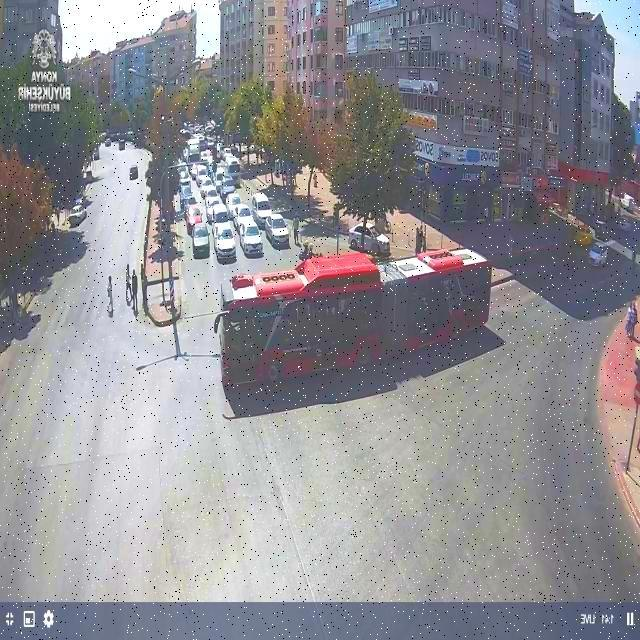Bus: (212, 246, 494, 392)
Car: (348, 222, 391, 256), (213, 222, 236, 260), (264, 214, 290, 247), (239, 224, 264, 256), (251, 192, 273, 225), (234, 210, 257, 239), (192, 223, 210, 257), (228, 200, 250, 227), (588, 243, 610, 267), (185, 204, 203, 232), (210, 202, 229, 227), (204, 194, 222, 218), (68, 205, 86, 227), (220, 176, 237, 196), (202, 184, 218, 205), (179, 185, 193, 208), (617, 218, 632, 231), (130, 166, 138, 179), (105, 138, 111, 146)
